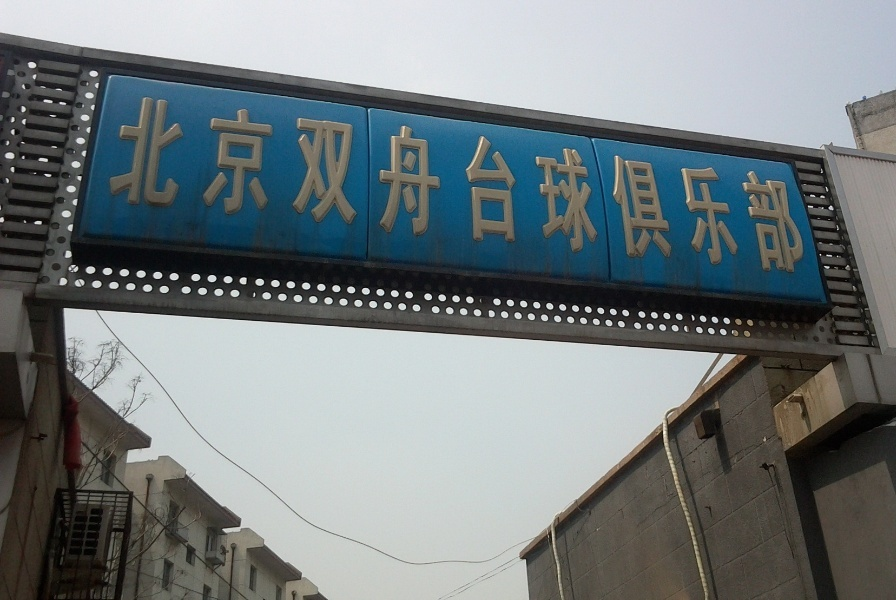text: (129, 92, 144, 279), (145, 92, 160, 279), (161, 92, 176, 279), (177, 92, 192, 279), (193, 92, 208, 279), (209, 92, 224, 279), (225, 92, 240, 279), (241, 92, 256, 279), (257, 92, 272, 279), (273, 92, 288, 279), (289, 92, 304, 279), (305, 92, 320, 279), (321, 92, 336, 279), (337, 92, 352, 279), (353, 92, 368, 279), (369, 92, 384, 279), (385, 92, 400, 279), (401, 92, 416, 279), (417, 92, 432, 279), (433, 92, 448, 279), (449, 92, 464, 279), (465, 92, 480, 279), (481, 92, 496, 279), (497, 92, 512, 279), (513, 92, 528, 279), (529, 92, 544, 279), (545, 92, 560, 279), (561, 92, 576, 279), (577, 92, 592, 279), (593, 92, 608, 279), (609, 92, 624, 279), (625, 92, 640, 279), (641, 92, 656, 279), (657, 92, 672, 279), (673, 92, 688, 279), (689, 92, 704, 279), (705, 92, 720, 279), (721, 92, 736, 279), (737, 92, 752, 279), (753, 92, 768, 279), (769, 92, 784, 279), (785, 92, 800, 279), (801, 92, 812, 279), (121, 92, 128, 279)
